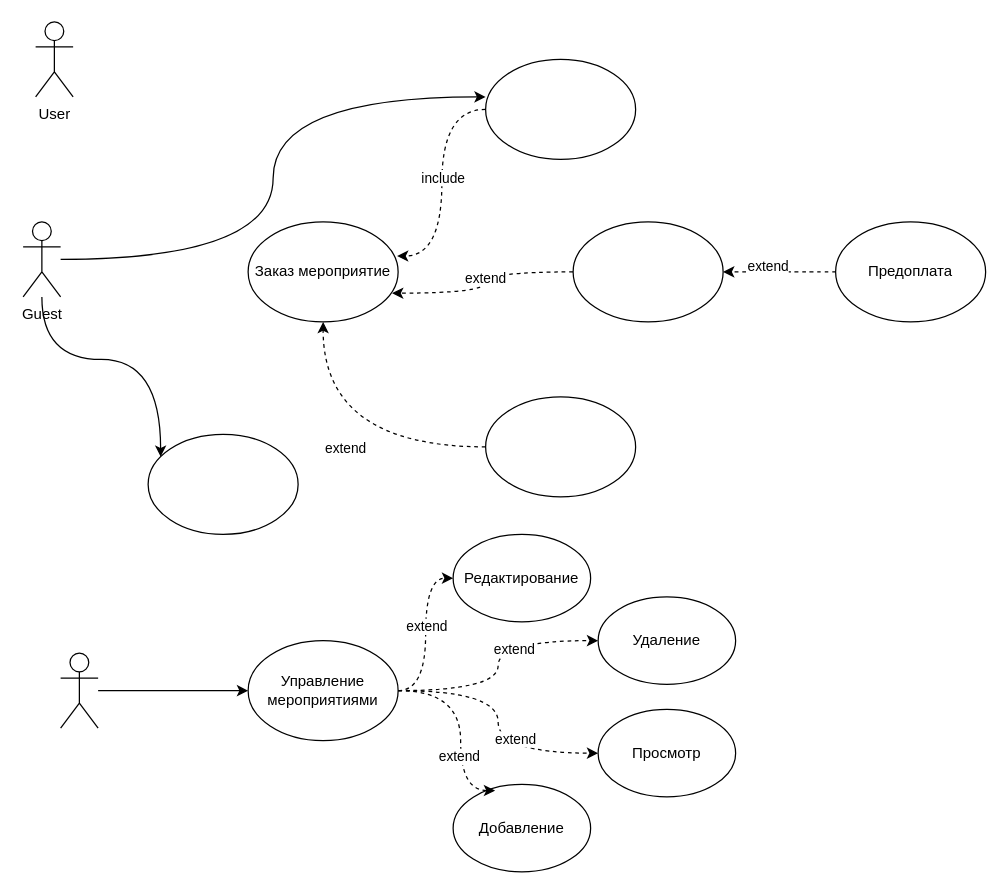
This 1008x894 diagram has some shape labels left out. Here are the shapes that lost their labels. From the top down, the centre of each, then its label:
At [560,108]: "Просмотр мероприятий".
At [647,271]: "Бронировать мероприятие".
At [560,446]: "Отменять мероприятие".
At [222,483]: "Регистрация".
At [78,690]: "Admin".
